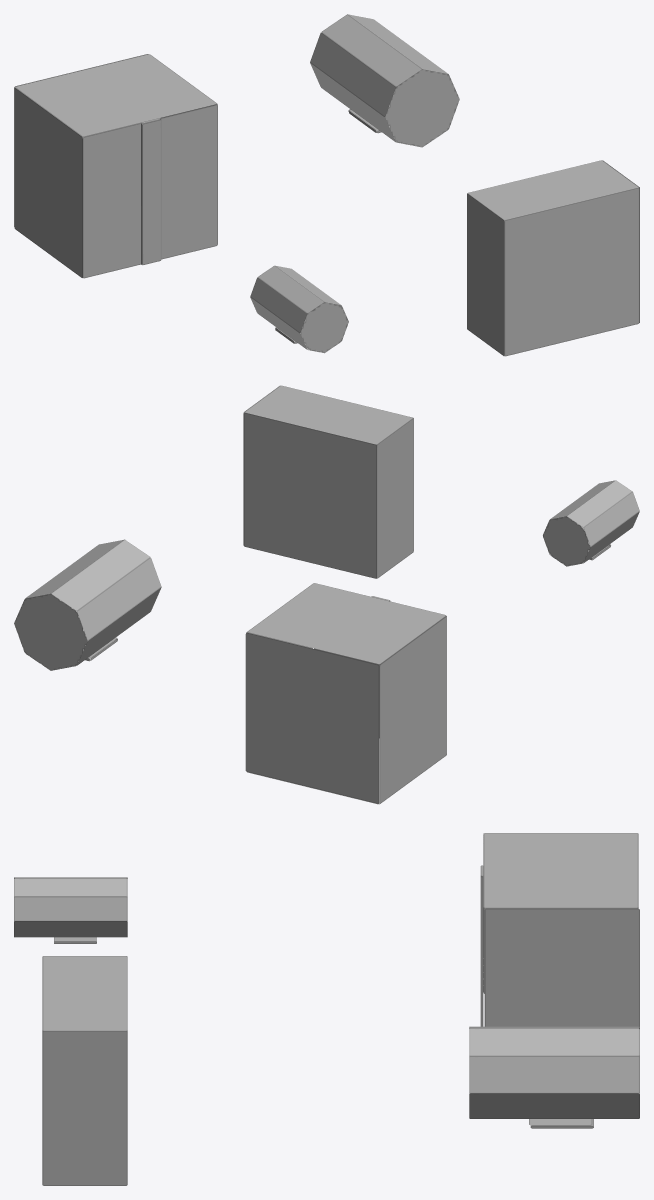
The model's file is contents_books_misc_02_55.obj.
3 views of the same model, one above another, from view 1: azimuth 30°, elevation 25°; view 2: azimuth 150°, elevation 25°; view 3: azimuth 270°, elevation 25° (orthographic). The views are drawn at different scales.
Visible parts, largest first — view 1: contents_books_misc_02_55; view 2: contents_books_misc_02_55; view 3: contents_books_misc_02_55.
Part boxes in pixels (x1,y1,x2,y2): contents_books_misc_02_55: (14, 14, 639, 356); contents_books_misc_02_55: (14, 385, 639, 804); contents_books_misc_02_55: (14, 833, 639, 1185).
Bounding box in the file's own units: 0.684 × 0.255 × 0.88.
1 material, 1 textured.
